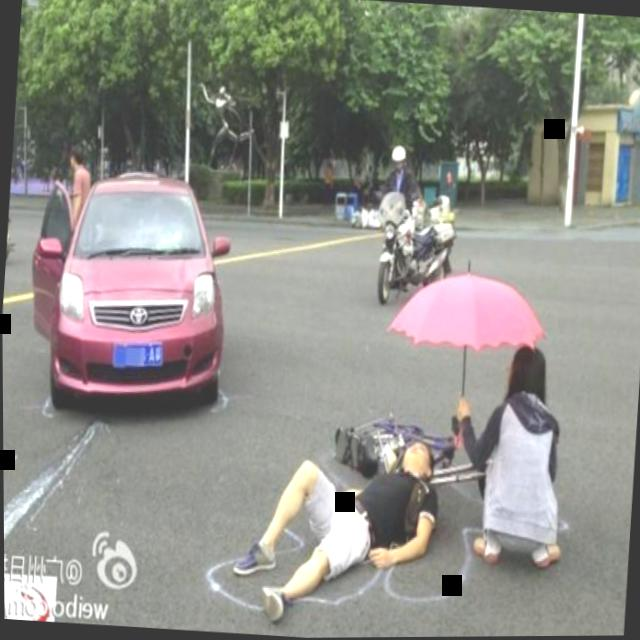Fall-Detected: (218, 415, 461, 638)
